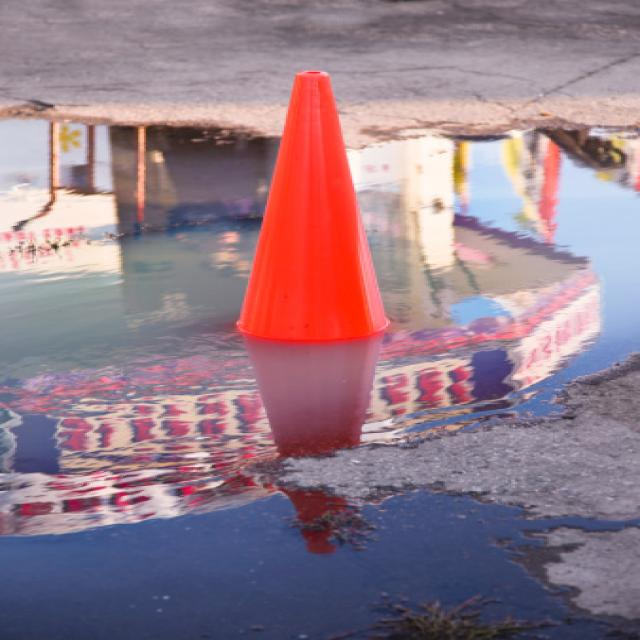cone: (238, 69, 392, 344)
